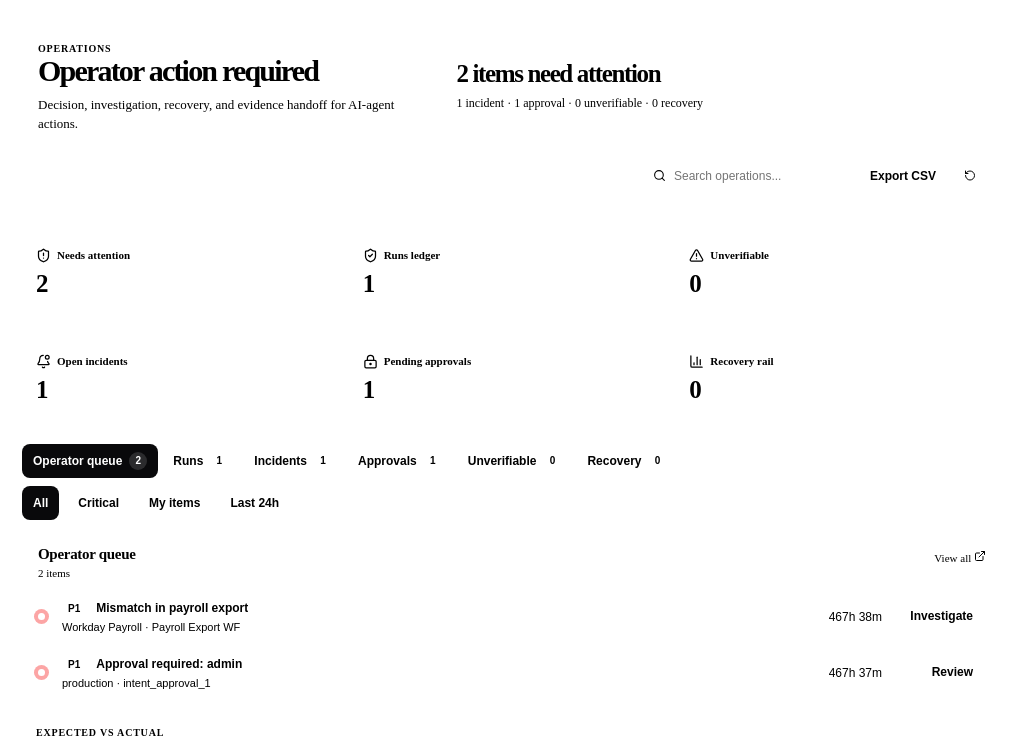
Test: OperationsPage › keeps Runs as the run ledger instead of duplicating all attention items
Click the button "Runs 1": x=201, y=461 [162,444,239,478]
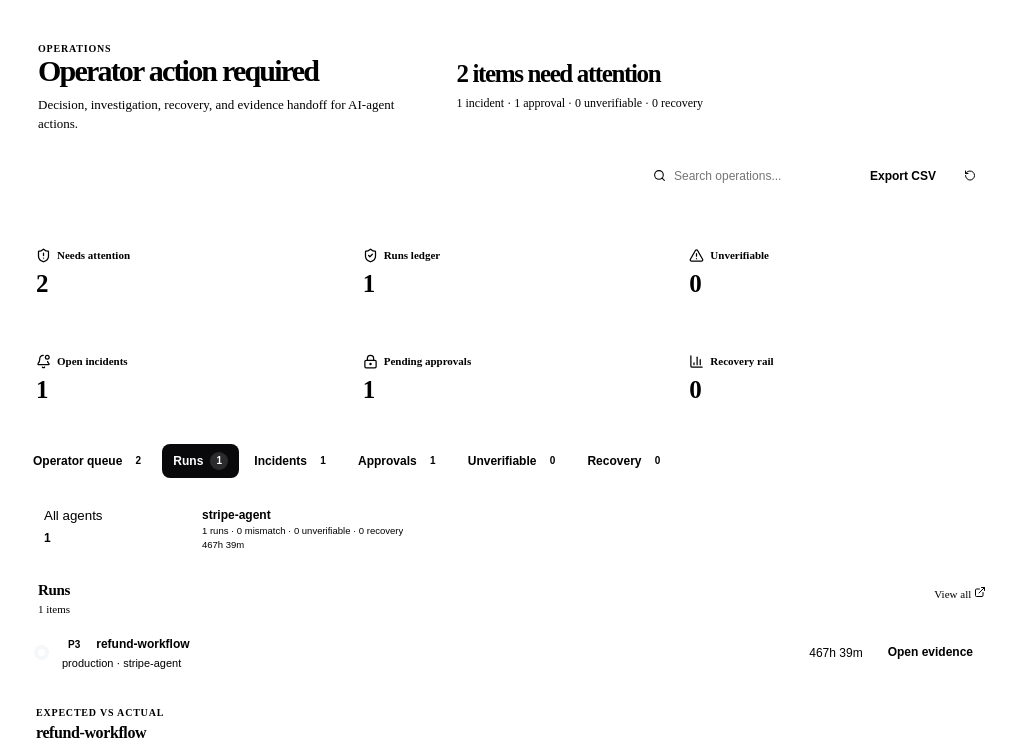
Now the text "refund-workflow" is shown, box [96,637,190,651]
Now the button "Mismatch in payroll export" is gone
Now the button "Approval required: admin" is gone
